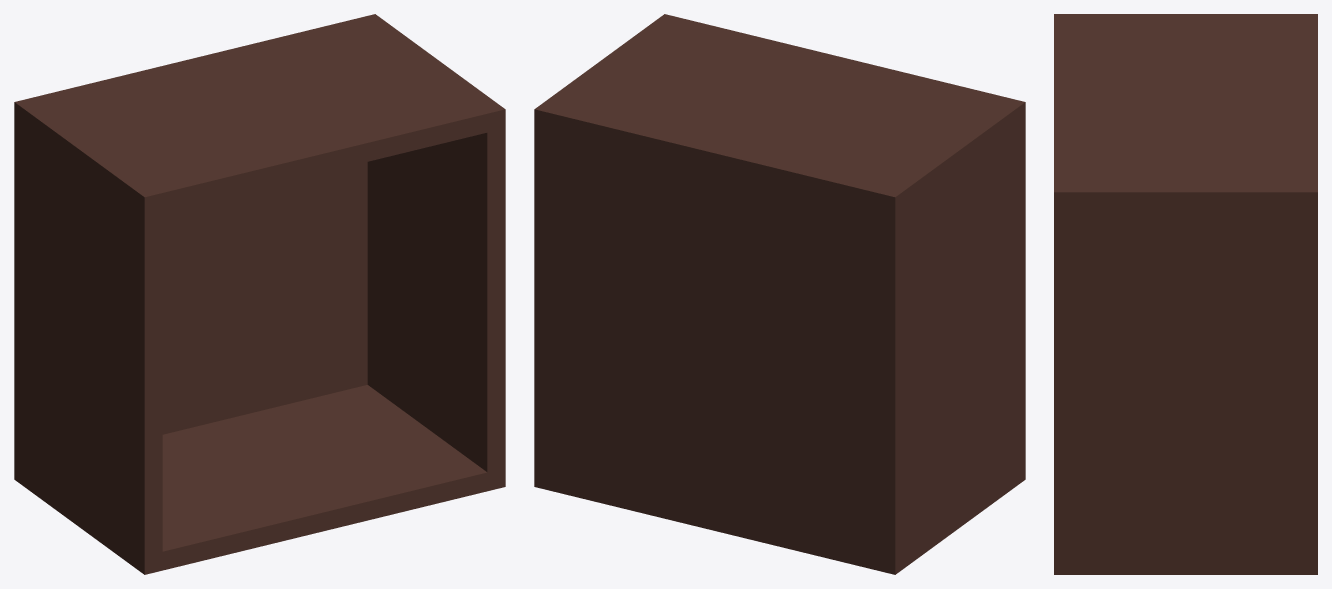
The model's file is pensileMarrone.obj.
The picture shows the model from 3 angles, left to right: view 1: azimuth 30°, elevation 25°; view 2: azimuth 150°, elevation 25°; view 3: azimuth 270°, elevation 25°; orthographic projection.
Visible parts, largest first — view 1: Box42_1; view 2: Box42_1; view 3: Box42_1.
Boxes of the visible parts, x1,y1,x2,y2 form: Box42_1: (14, 14, 505, 574); Box42_1: (534, 14, 1025, 574); Box42_1: (1054, 14, 1317, 574).
Bounding box in the file's own units: 40 × 40 × 25.
